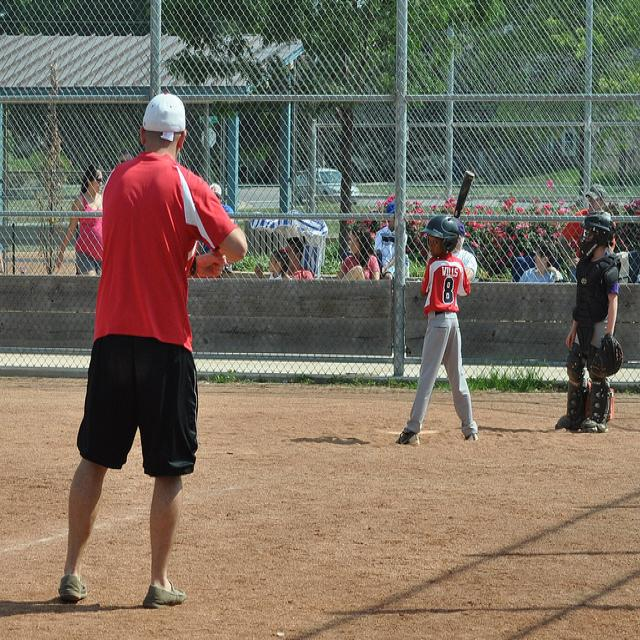Vehicle: (294, 166, 361, 206)
